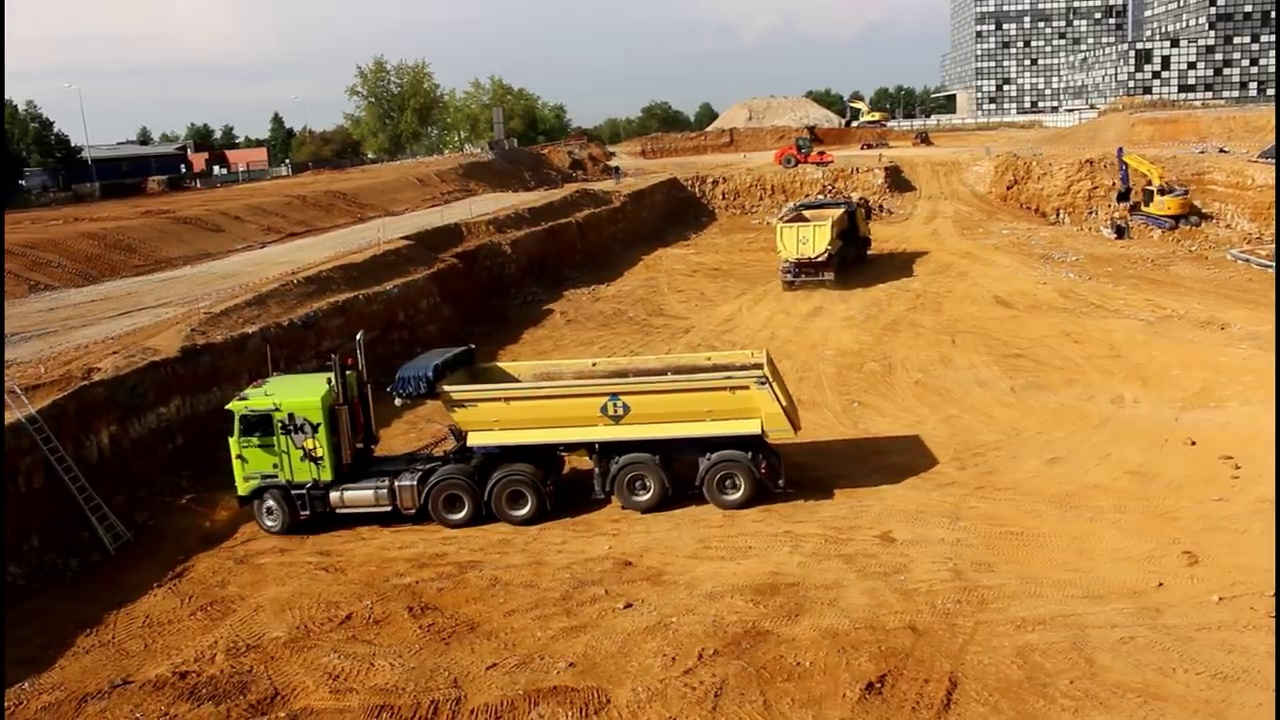compactor: (772, 134, 836, 171)
excavator: (1112, 143, 1207, 231), (840, 99, 888, 127)
truck: (220, 326, 807, 538), (772, 192, 872, 290), (1229, 241, 1280, 285)
worker: (610, 159, 626, 189)
